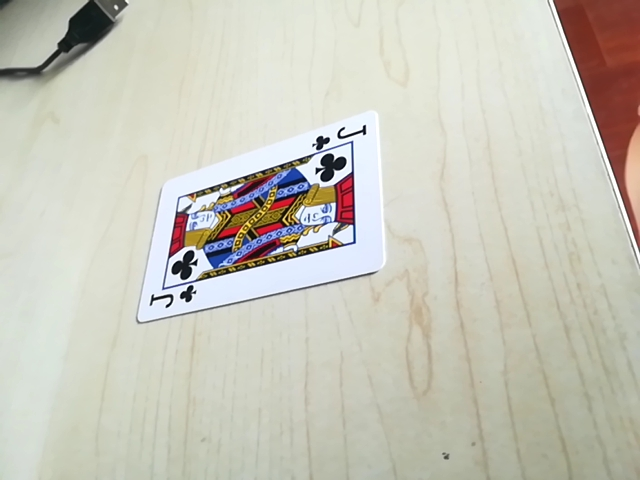mh j: (145, 283, 199, 316), (312, 124, 369, 154)
